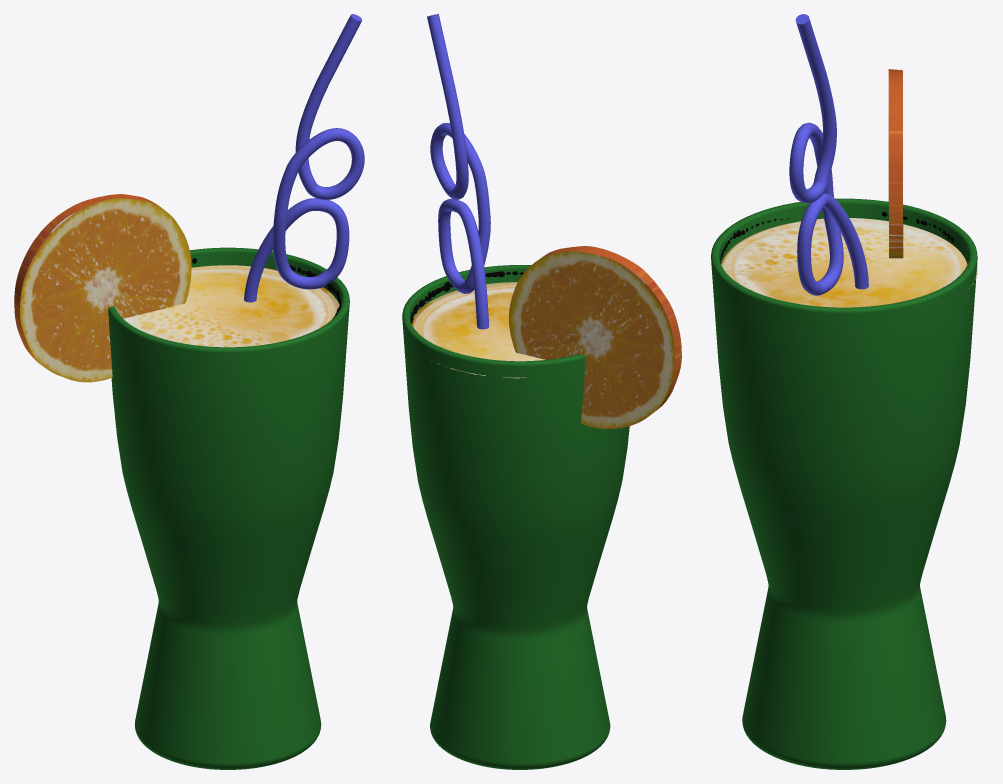
Rendered from jugo_natural.fbx.
3 views of the same model, side by side, from view 1: azimuth 30°, elevation 25°; view 2: azimuth 150°, elevation 25°; view 3: azimuth 270°, elevation 25° (orthographic). The views are drawn at different scales.
Visible parts, largest first — view 1: Line001, Circle001, pDisc1, Line003; view 2: Line001, Circle001, Line003, pDisc1; view 3: Line001, pDisc1, Line003, Circle001.
Boxes of the visible parts, box(x1,y1,x2,y2) form: Line001: box(108, 247, 349, 769); Circle001: box(14, 194, 191, 382); pDisc1: box(123, 265, 339, 347); Line003: box(244, 14, 364, 302); Line001: box(402, 265, 629, 769); Circle001: box(509, 246, 681, 428); Line003: box(427, 14, 490, 329); pDisc1: box(411, 282, 545, 378); Line001: box(711, 198, 977, 769); pDisc1: box(721, 218, 977, 307); Line003: box(789, 14, 868, 295); Circle001: box(888, 69, 903, 258).
Bounding box in the file's own units: 13.53 × 30.47 × 9.87.
